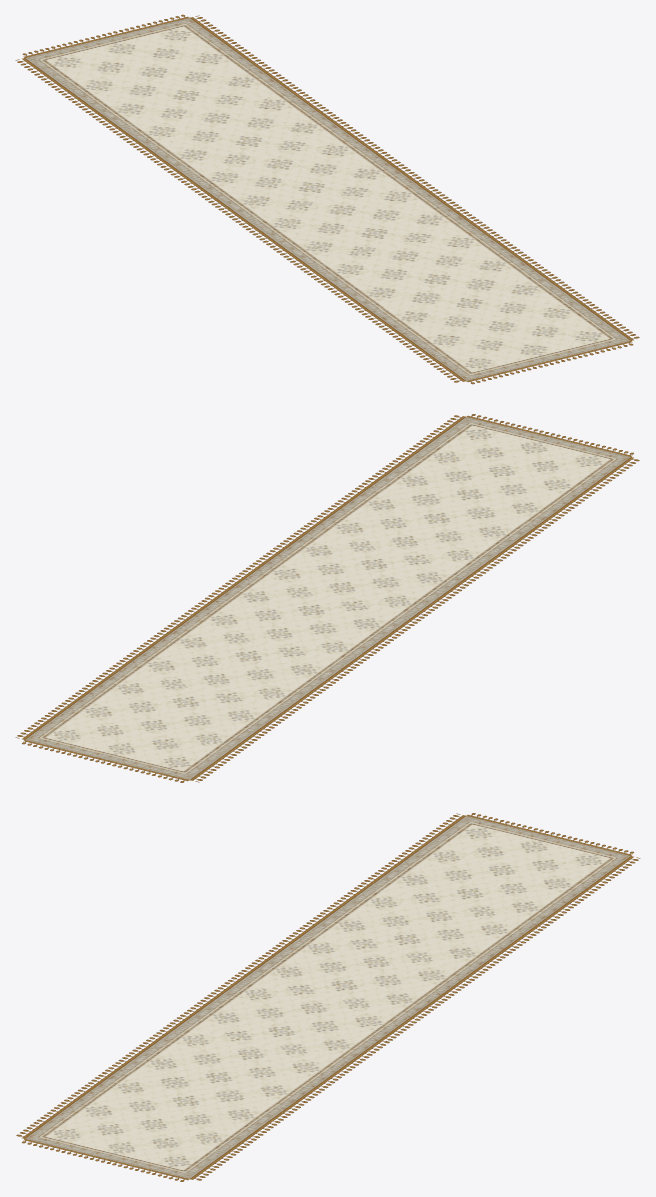
The picture shows the model from 3 angles, top to bottom: view 1: azimuth 30°, elevation 25°; view 2: azimuth 150°, elevation 25°; view 3: azimuth 330°, elevation 25°; orthographic projection.
Parts seen in each view (by area): view 1: a107; view 2: a107; view 3: a107.
Boxes of the visible parts, x1=… form: a107: x1=15, y1=14, x2=639, y2=384; a107: x1=15, y1=414, x2=639, y2=782; a107: x1=16, y1=813, x2=640, y2=1181.
Bounding box in the file's own units: 409 × 4.87e-13 × 1719.
